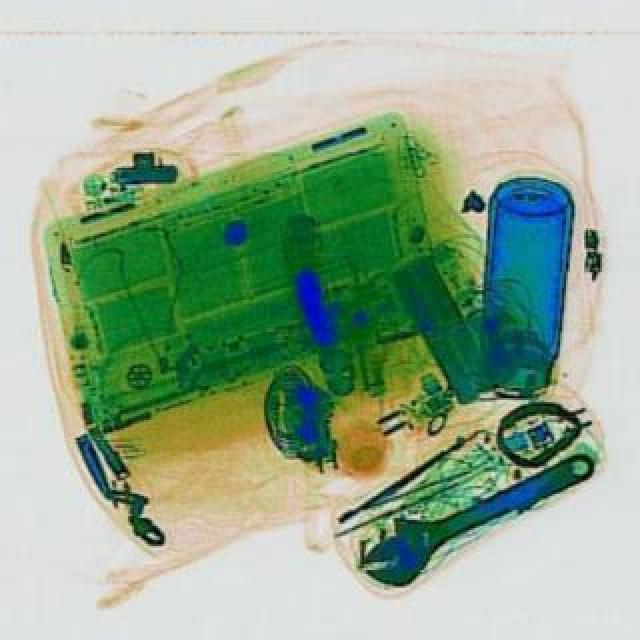scissors: (344, 424, 604, 594)
